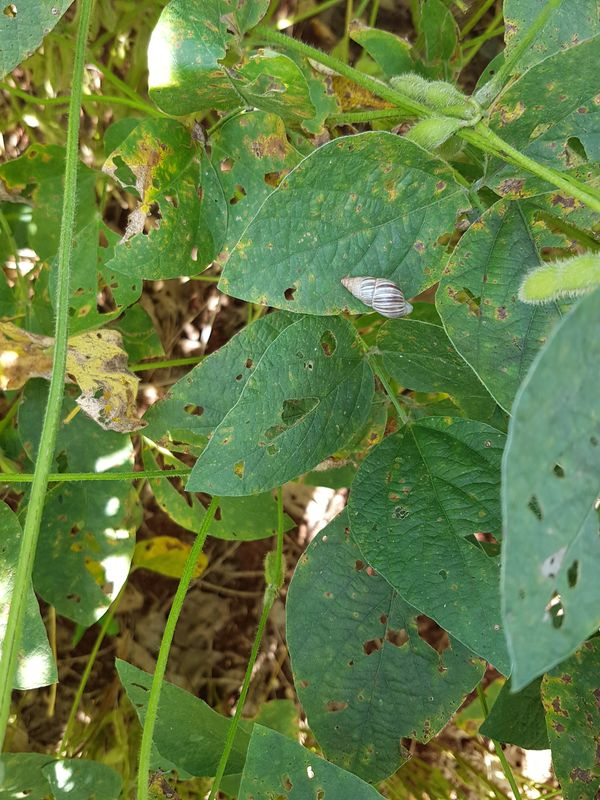Euschistus_heros_adulto: (171, 108, 222, 160)
Gastropoda: (328, 255, 428, 336)
